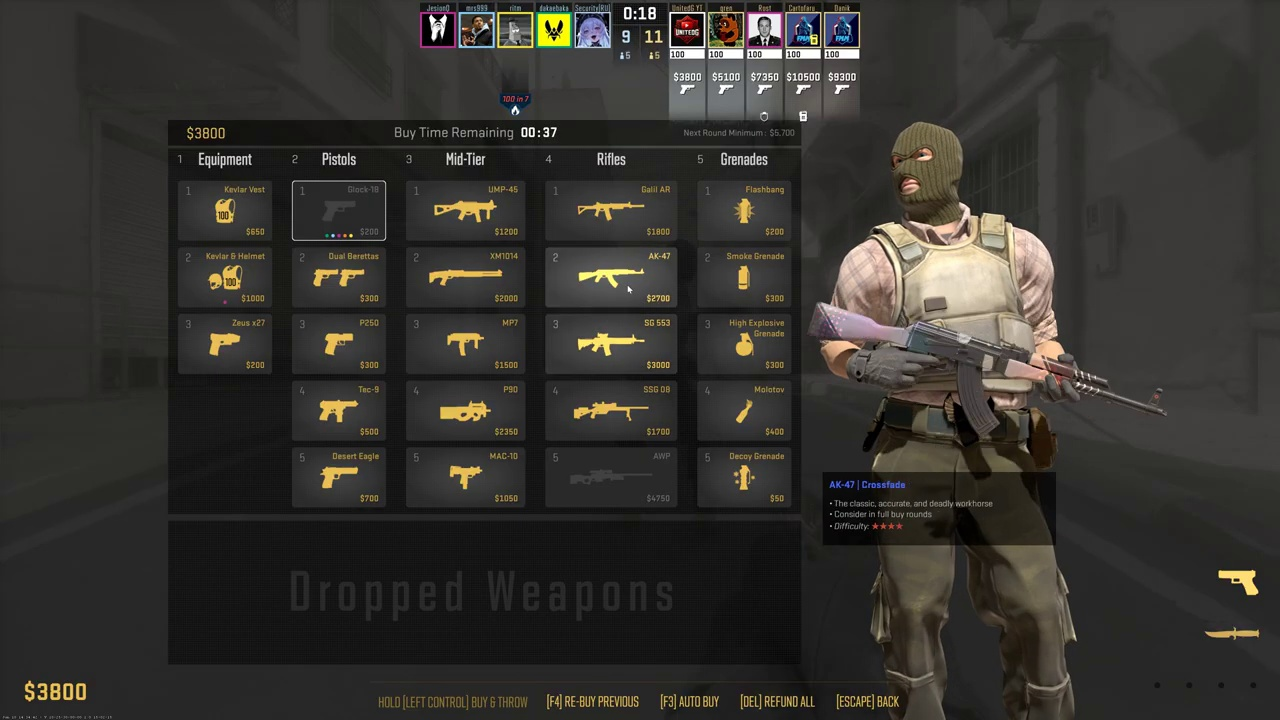Terrorist: (842, 125, 1079, 720)
